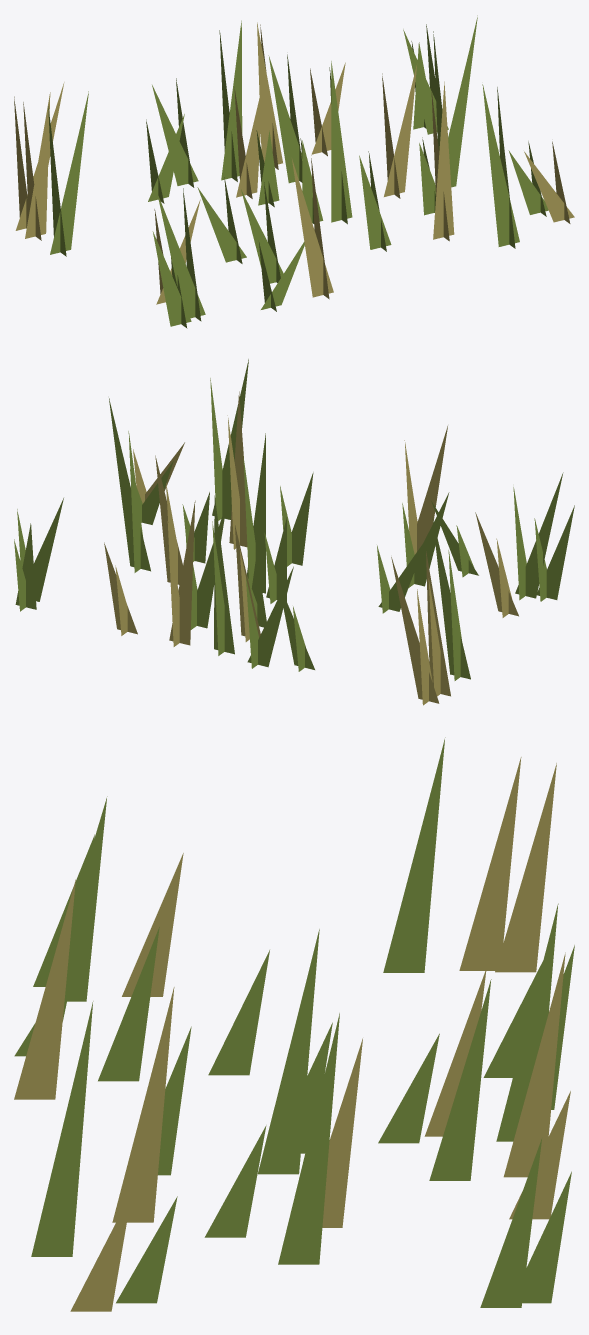
The model's file is Overgrown_Weeds.fbx.
3 views of the same model, one above another, from view 1: azimuth 30°, elevation 25°; view 2: azimuth 150°, elevation 25°; view 3: azimuth 270°, elevation 25° (orthographic). The views are drawn at different scales.
Parts seen in each view (by area): view 1: Overgrown_Weeds_Mesh; view 2: Overgrown_Weeds_Mesh; view 3: Overgrown_Weeds_Mesh.
Boxes of the visible parts, x1,y1,x2,y2 form: Overgrown_Weeds_Mesh: [14, 15, 574, 328]; Overgrown_Weeds_Mesh: [14, 359, 574, 705]; Overgrown_Weeds_Mesh: [14, 737, 574, 1311].
Bounding box in the file's own units: 184 × 68.44 × 122.
